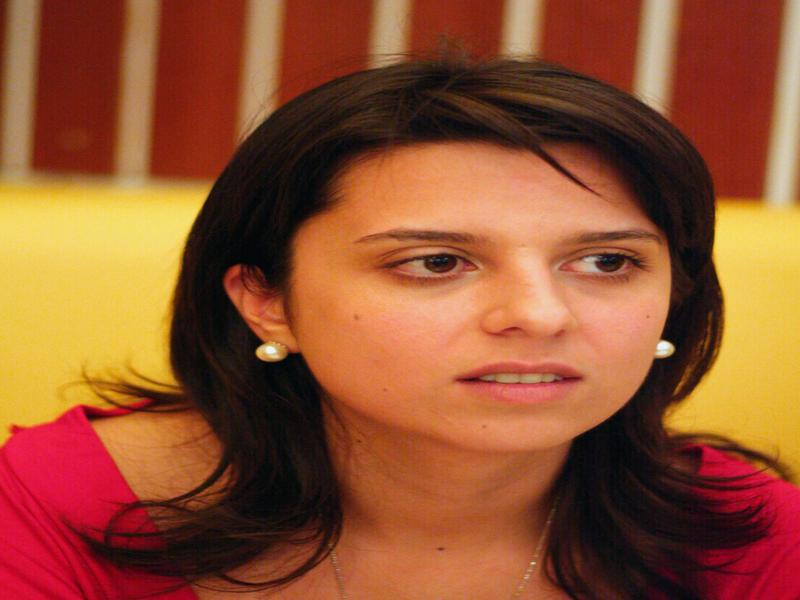person: (9, 51, 774, 600)
